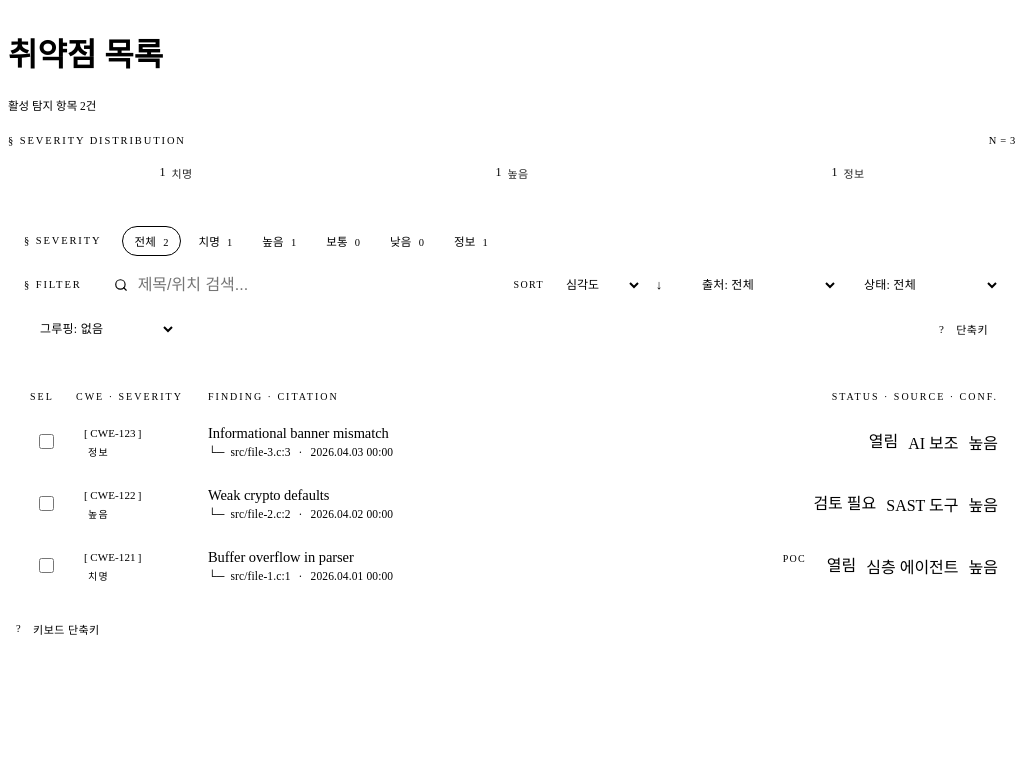
VulnerabilitiesPage › supports grouped display by location
The image size is (1024, 768).
Check: the text "Buffer overflow in parser" is shown, box [208,549,354,565]
Select "위치별" in the dropdown showing "그루핑: 없음": (100,329) [24,312,176,346]
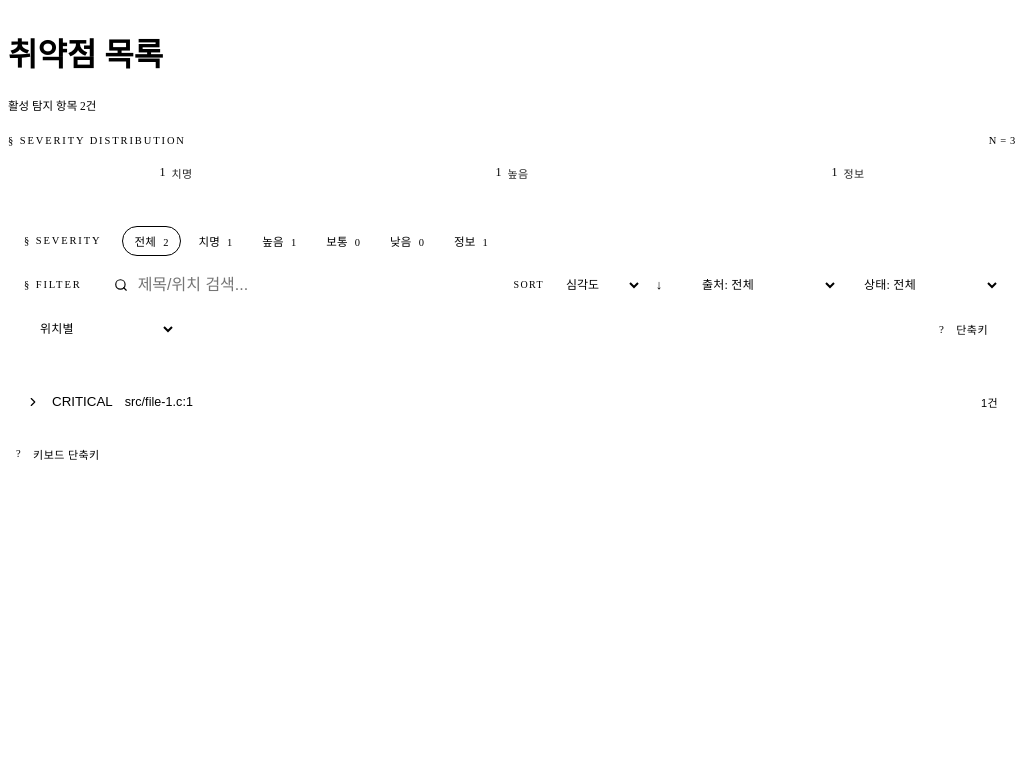
Click the button "CRITICAL src/file-1.c:1 1건": (82,402) [8,382,1016,422]
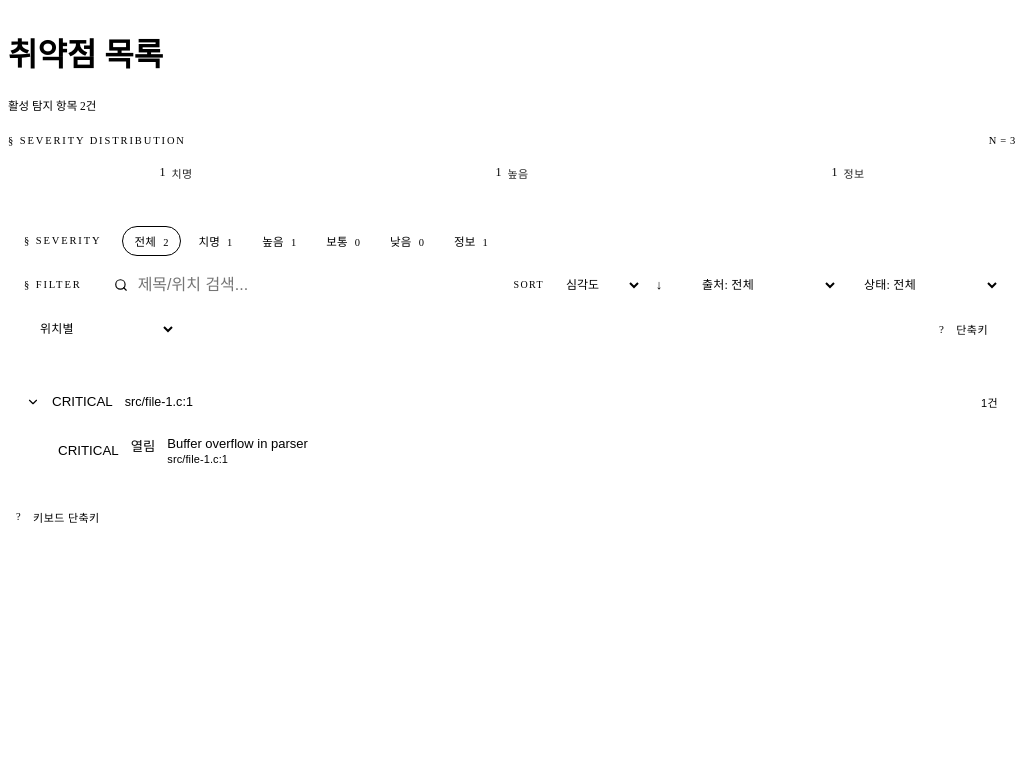
Check: the text "Buffer overflow in parser" is shown, box [167,436,308,451]
